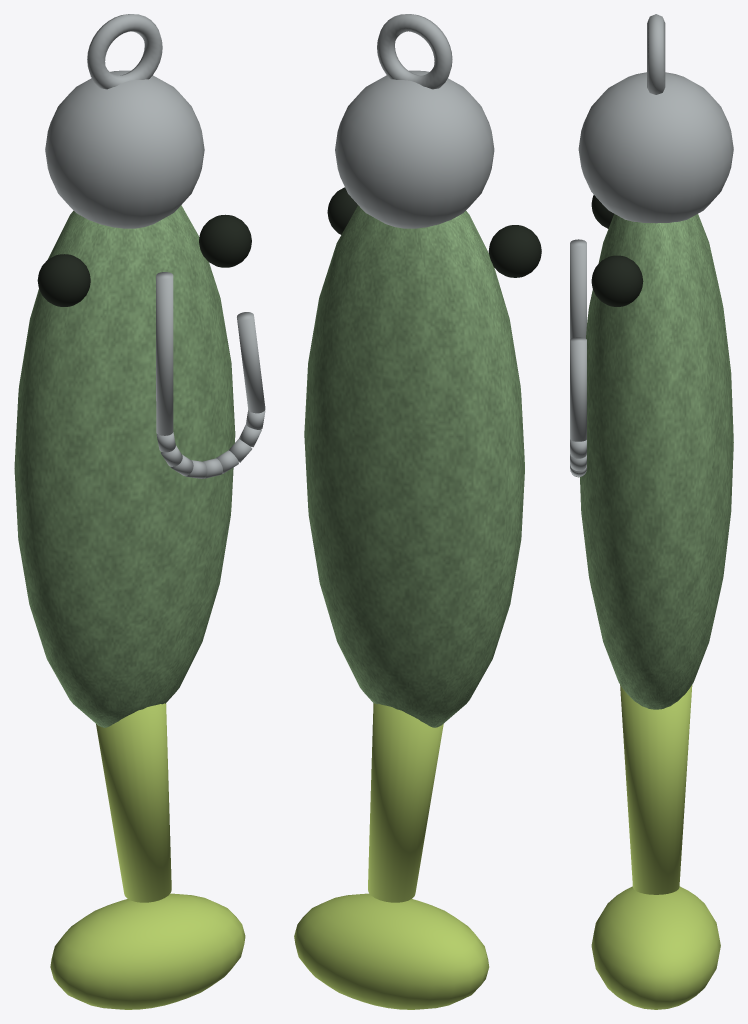
Rendered from paddle_shad.glb.
3 renders of one model, left to right at view 1: azimuth 30°, elevation 25°; view 2: azimuth 150°, elevation 25°; view 3: azimuth 270°, elevation 25°, orthographic. The views are drawn at different scales.
Visible parts, largest first — view 1: Tie eye.006; view 2: Tie eye.006; view 3: Tie eye.006.
Boxes of the visible parts, x1=… form: Tie eye.006: x1=14, y1=14, x2=265, y2=1009; Tie eye.006: x1=294, y1=14, x2=541, y2=1009; Tie eye.006: x1=570, y1=14, x2=733, y2=1009.
Size of the model in its own units: 0.019 by 0.0822 by 0.0127.
4 materials, 1 textured.
